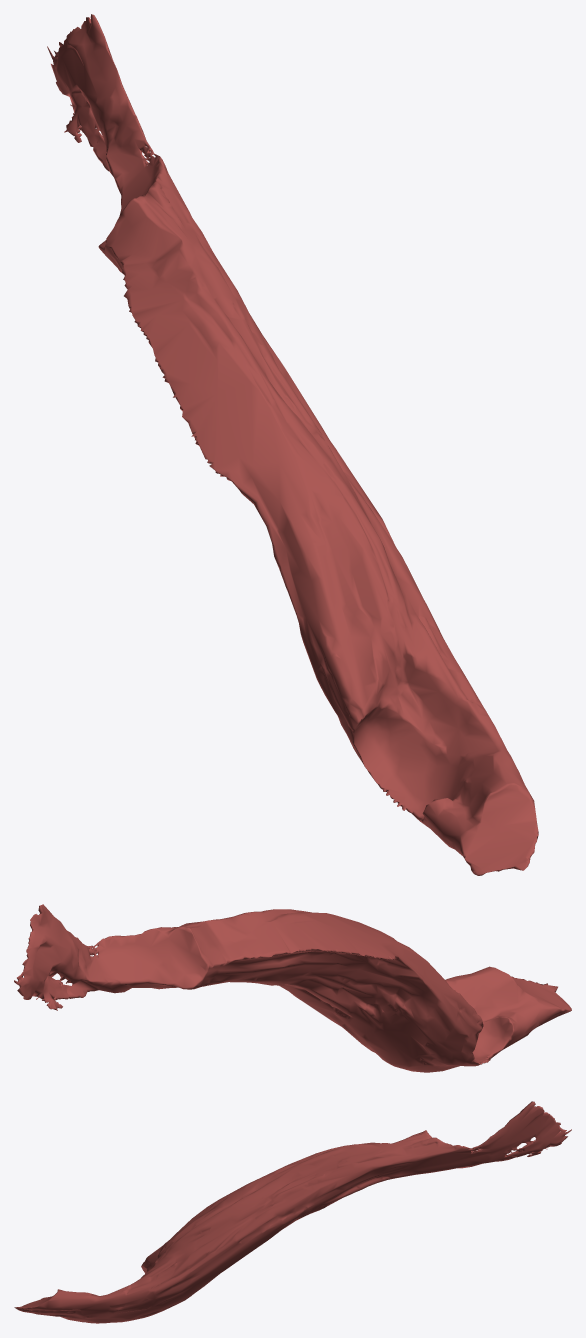
Rendered from FMA45971.glb.
3 views of the same model, one above another, from view 1: azimuth 30°, elevation 25°; view 2: azimuth 150°, elevation 25°; view 3: azimuth 270°, elevation 25° (orthographic). The views are drawn at different scales.
Visible parts, largest first — view 1: FMA45971; view 2: FMA45971; view 3: FMA45971.
Part boxes in pixels (<box>): FMA45971: <box>47,14,538,875</box>; FMA45971: <box>14,904,571,1072</box>; FMA45971: <box>14,1101,571,1323</box>.
Size of the model in its own units: 0.0128 by 0.0385 by 0.0813.
